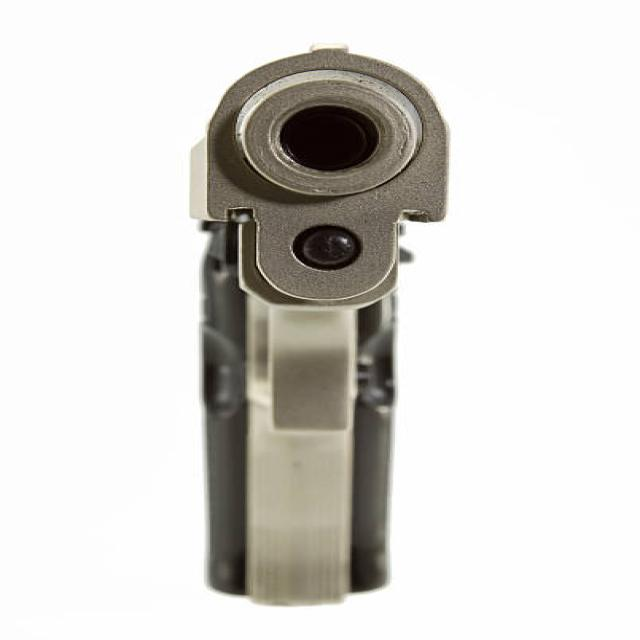pistol: (186, 31, 457, 614)
